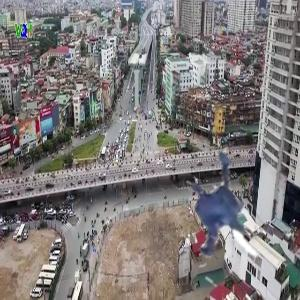drone: (153, 145, 297, 289)
